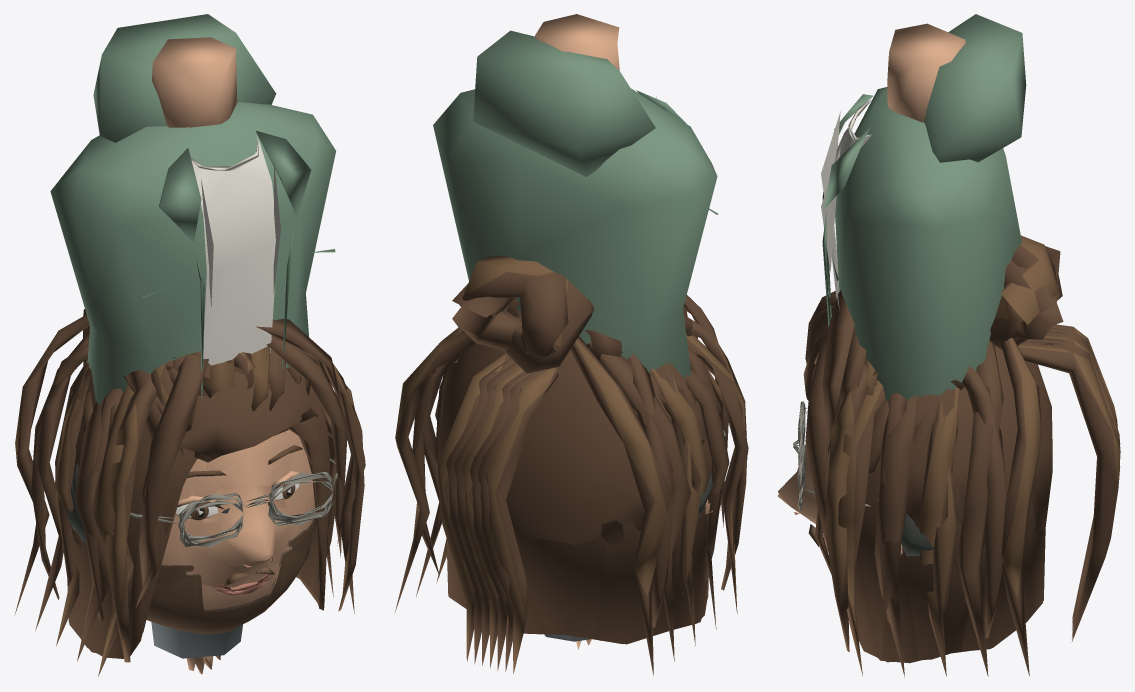
The model's file is characters-low.glb.
3 renders of one model, left to right at view 1: azimuth 30°, elevation 25°; view 2: azimuth 150°, elevation 25°; view 3: azimuth 270°, elevation 25°, orthographic.
Visible parts, largest first — view 1: torso, hair_bob, hair_wavy, tee, hoodie_details, face_round, hair_curly, neck, hair_fluffy, collar, beard_short_angular, thigh (+13 smaller); view 2: torso, hair_wavy, hair_bob, hair_ponytail, hair_curly, hoodie_details, hair_bun, neck, hair_fluffy, hair_side-part; view 3: torso, hair_wavy, hair_bob, hoodie_details, hair_curly, hair_ponytail, hair_bun, neck, hair_side-part, collar, face_round, hair_fluffy (+3 smaller).
Boxes of the visible parts, x1,y1,x2,y2 form: torso: (50,102,335,405); hair_bob: (31,337,364,662); hair_wavy: (14,314,365,676); tee: (191,137,275,365); hoodie_details: (93,14,289,368); face_round: (166,433,313,596); hair_curly: (55,352,332,478); neck: (152,37,237,127); hair_fluffy: (72,346,331,479); collar: (158,130,311,242); beard_short_angular: (146,524,313,633); thigh: (151,622,242,658); torso: (433,88,717,378); hair_wavy: (394,330,748,675); hair_bob: (412,295,747,644); hair_ponytail: (437,353,558,674); hair_curly: (437,331,721,545); hoodie_details: (473,30,656,176); hair_bun: (452,255,726,527); neck: (535,14,619,70); hair_fluffy: (441,306,704,545); hair_side-part: (585,330,621,360); torso: (835,87,1021,401); hair_wavy: (829,337,1045,677); hair_bob: (805,291,1045,662); hoodie_details: (821,14,1026,272); hair_curly: (803,327,1052,546); hair_ponytail: (1018,324,1120,642); hair_bun: (815,235,1063,574); neck: (887,23,965,122); hair_side-part: (822,290,877,448); collar: (824,94,873,209); face_round: (778,443,817,522); hair_fluffy: (814,319,973,501).
Bounding box in the file's own units: 0.536 × 1.17 × 0.5914.
